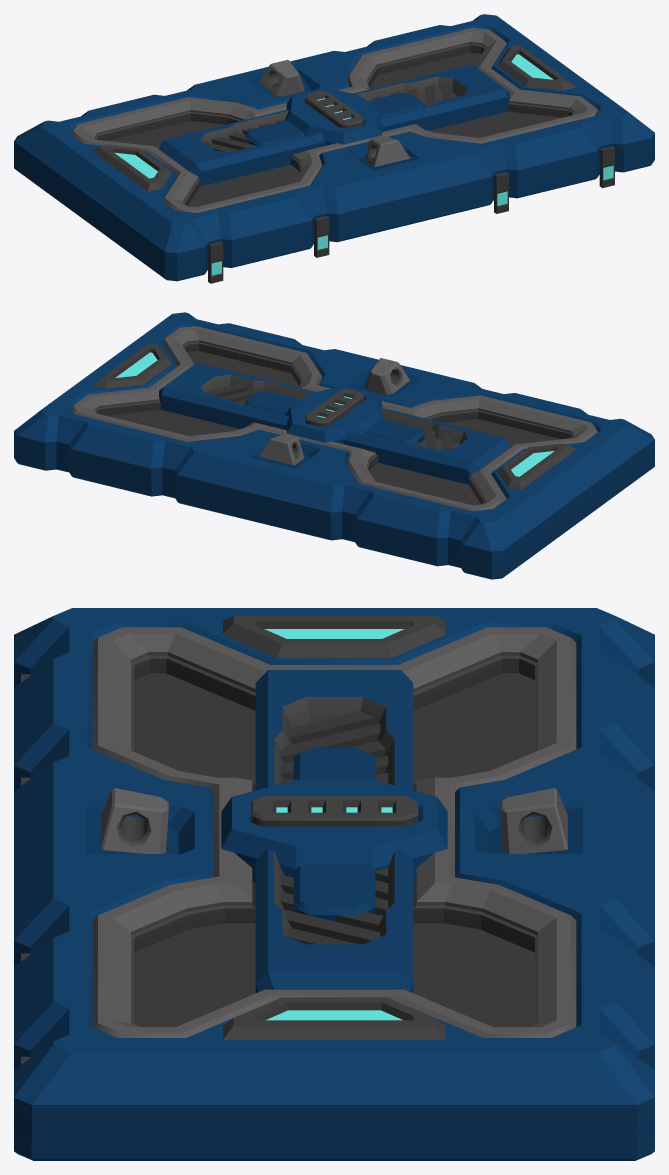
File: Container_01_Cap.fbx
3 views of the same model, one above another, from view 1: azimuth 30°, elevation 25°; view 2: azimuth 150°, elevation 25°; view 3: azimuth 270°, elevation 25° (orthographic). The views are drawn at different scales.
Visible parts, largest first — view 1: Container_01_Cap; view 2: Container_01_Cap; view 3: Container_01_Cap.
Boxes of the visible parts, <box> form: Container_01_Cap: <box>14,14,654,283</box>; Container_01_Cap: <box>14,312,654,579</box>; Container_01_Cap: <box>14,608,654,1160</box>.
Size of the model in its own units: 83.99 by 12.33 by 47.6.
